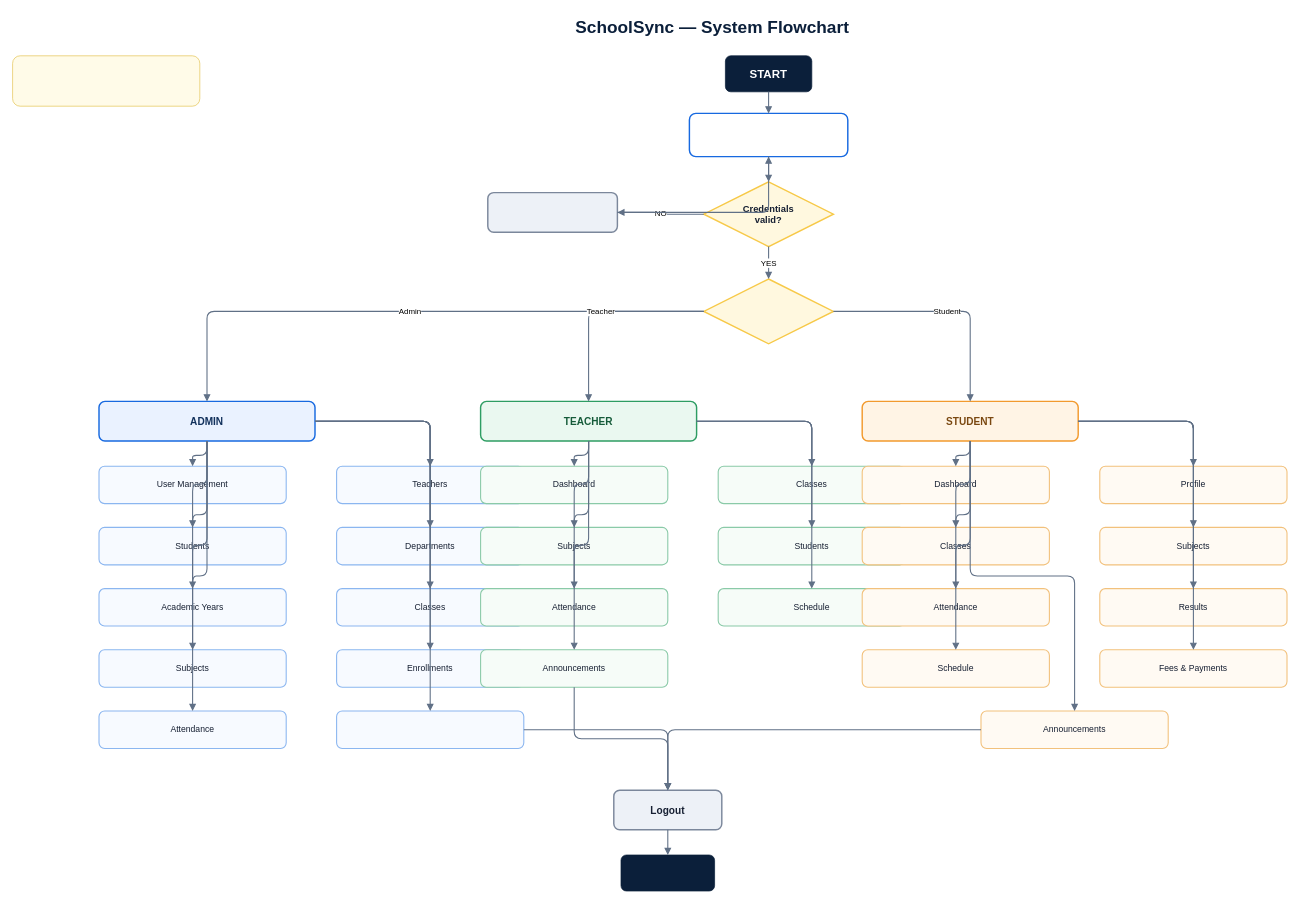
This 1300x904 diagram has some shape labels left out. The box of each missing label's shape, as (x1, y1, x2, y2) in pixels:
Check User Role: (703, 278, 834, 344)
END: (620, 854, 715, 891)
Final roles: Admin • Teacher • Student Staff role removed: (12, 55, 200, 106)
Finance / Fee Types: (336, 710, 524, 749)
Login / Authentication: (688, 112, 848, 157)
Show login error: (487, 192, 618, 233)
